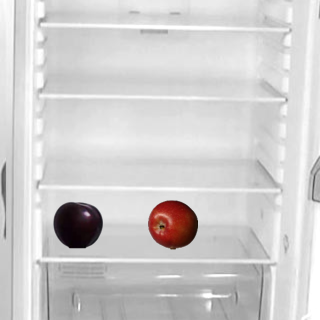Apple Braeburn: (147, 199, 197, 249)
Cherry Wax Black: (52, 199, 102, 249)
